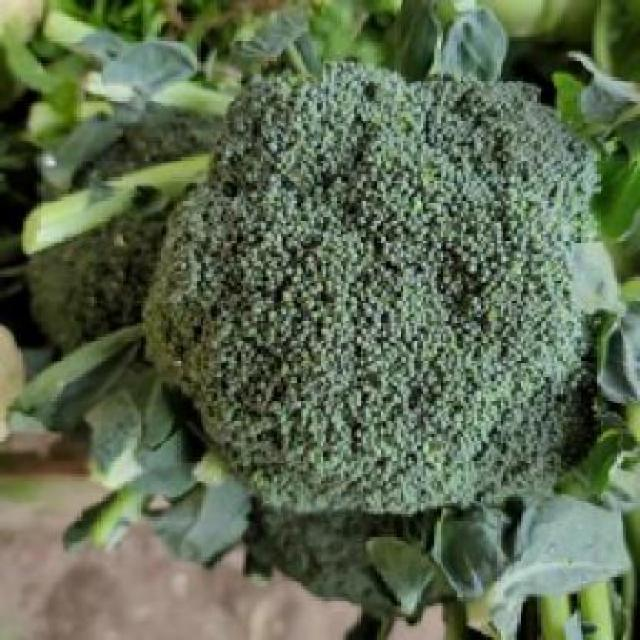broccoli: (114, 80, 597, 500)
